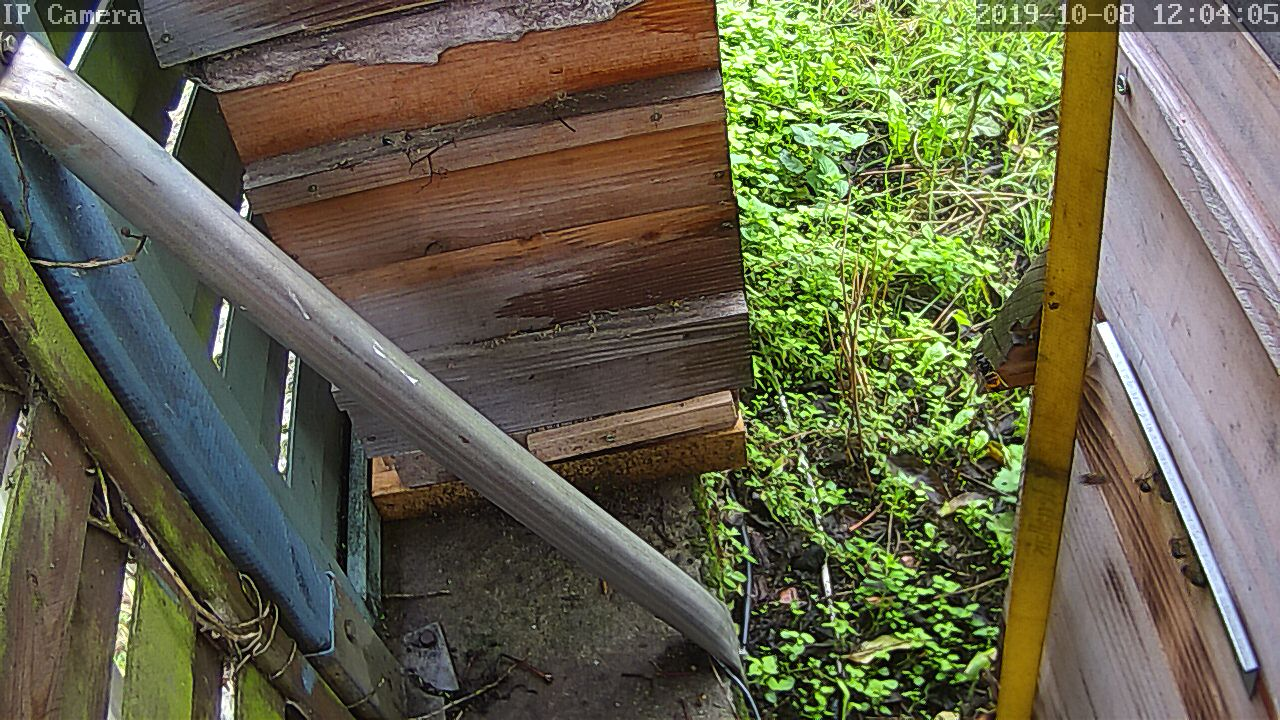bee: (1175, 560, 1208, 591), (1132, 466, 1158, 498), (1164, 537, 1191, 562)
hornet: (969, 348, 1010, 397)
